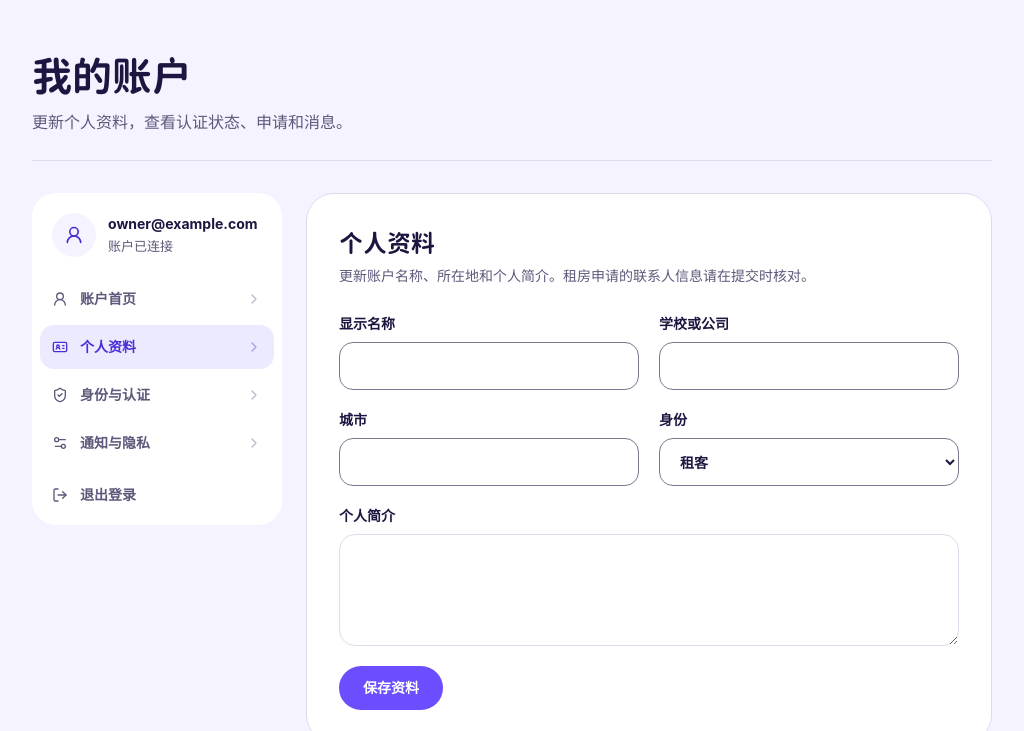
Test case: account experience › shows a visible error when profile saving fails
The image size is (1024, 731).
Click the button "保存资料" at (391, 688), box [339,666,443,710]
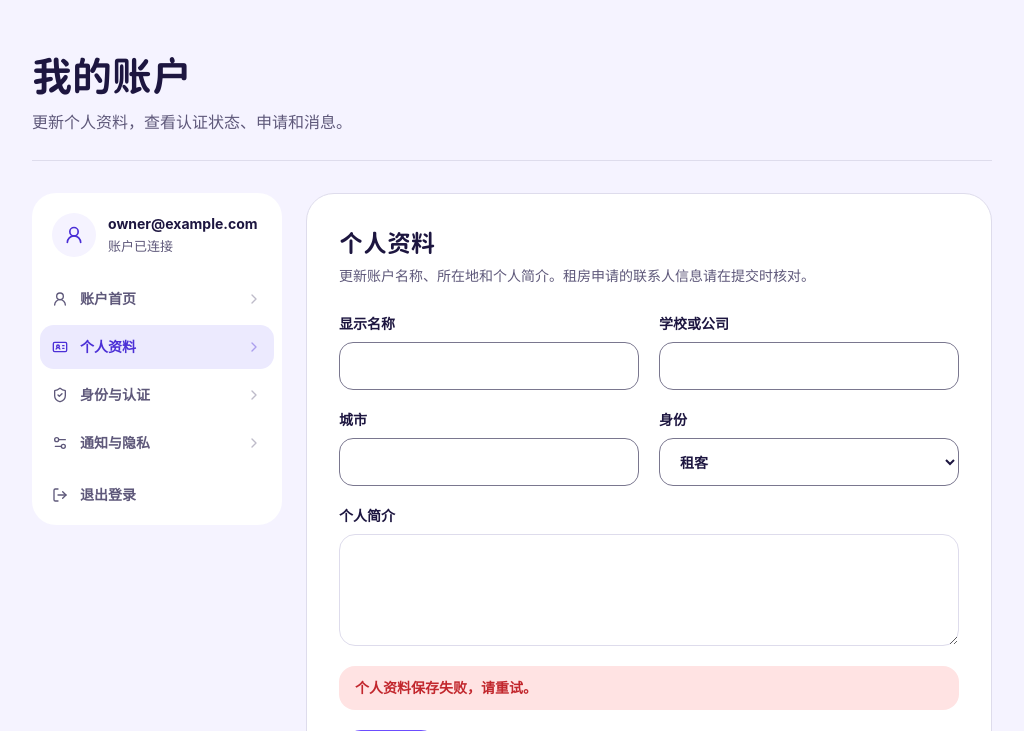
Result: the text "个人资料保存失败，请重试。" is shown at [339,666,959,710]
